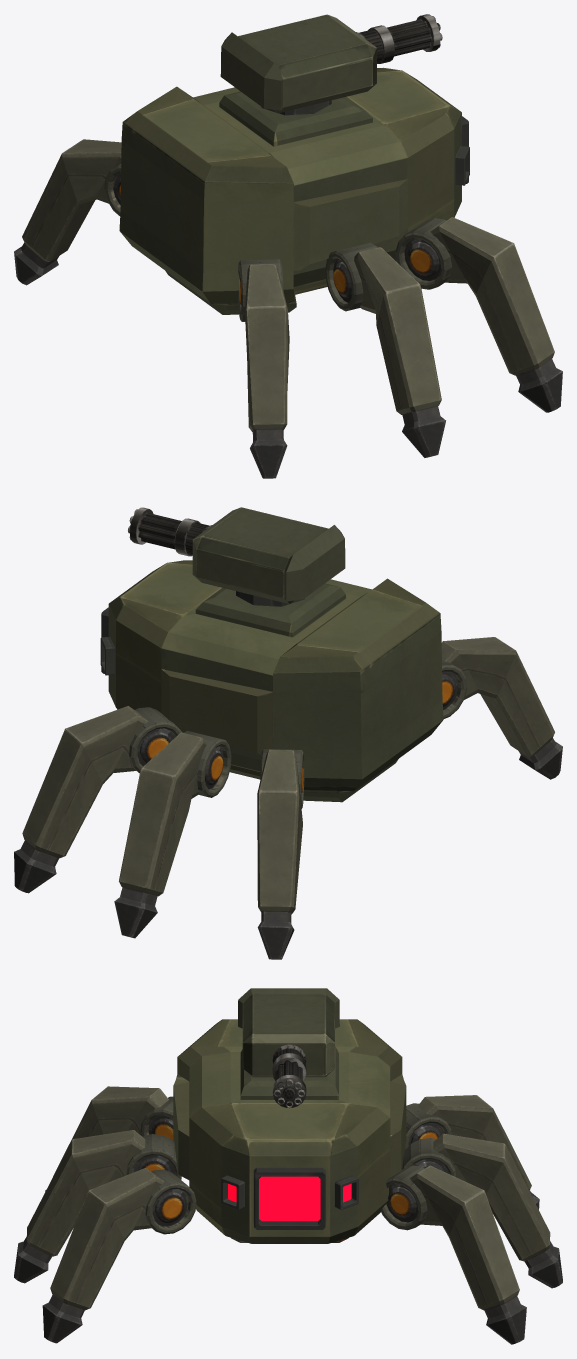
Rendered from BOSS.fbx.
3 views of the same model, one above another, from view 1: azimuth 30°, elevation 25°; view 2: azimuth 150°, elevation 25°; view 3: azimuth 270°, elevation 25° (orthographic). The views are drawn at different scales.
Parts seen in each view (by area): view 1: Cube.008, Cylinder.015, Cylinder.014, Cube.009, Cylinder.018, Cylinder.017, Cylinder.008; view 2: Cube.008, Cylinder.016, Cylinder.013, Cube.009, Cylinder.018, Cylinder.017, Cylinder.008; view 3: Cube.008, Cylinder.015, Cylinder.016, Cylinder.014, Cylinder.013, Cube.009, Cylinder.017, Cylinder.018, Cylinder.008.
Boxes of the visible parts, x1,y1,x2,y2 form: Cube.008: (119, 67, 469, 314); Cylinder.015: (395, 217, 562, 412); Cylinder.014: (325, 243, 445, 457); Cube.009: (220, 14, 376, 113); Cylinder.018: (238, 259, 289, 478); Cylinder.017: (14, 139, 121, 285); Cylinder.008: (356, 14, 442, 63); Cube.008: (100, 560, 443, 802); Cylinder.016: (14, 706, 182, 893); Cylinder.013: (114, 730, 231, 938); Cube.009: (192, 507, 345, 603); Cylinder.018: (441, 637, 562, 779); Cylinder.017: (257, 749, 304, 959); Cylinder.008: (128, 507, 212, 556); Cube.008: (173, 1019, 406, 1243); Cylinder.015: (42, 1168, 196, 1343); Cylinder.016: (381, 1165, 526, 1344); Cylinder.014: (14, 1130, 181, 1283); Cylinder.013: (402, 1133, 562, 1288); Cube.009: (238, 988, 339, 1077); Cylinder.017: (404, 1095, 539, 1209); Cylinder.018: (45, 1086, 173, 1191); Cylinder.008: (272, 1044, 306, 1108).
Bounding box in the file's own units: 476 × 434 × 770.
Materials: 2 (1 with a texture image).
